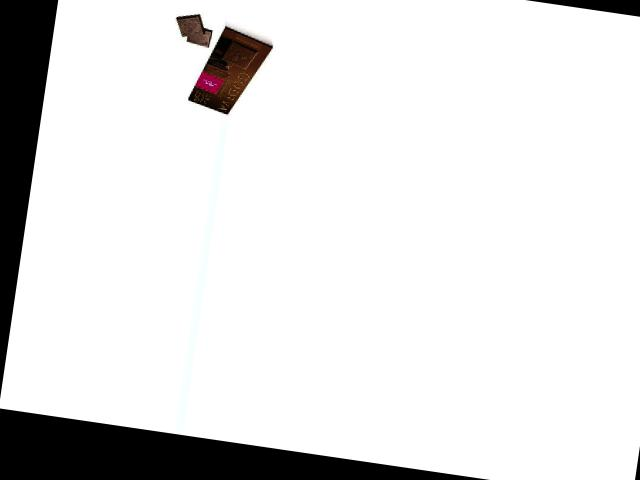chocolate: (185, 20, 275, 120)
